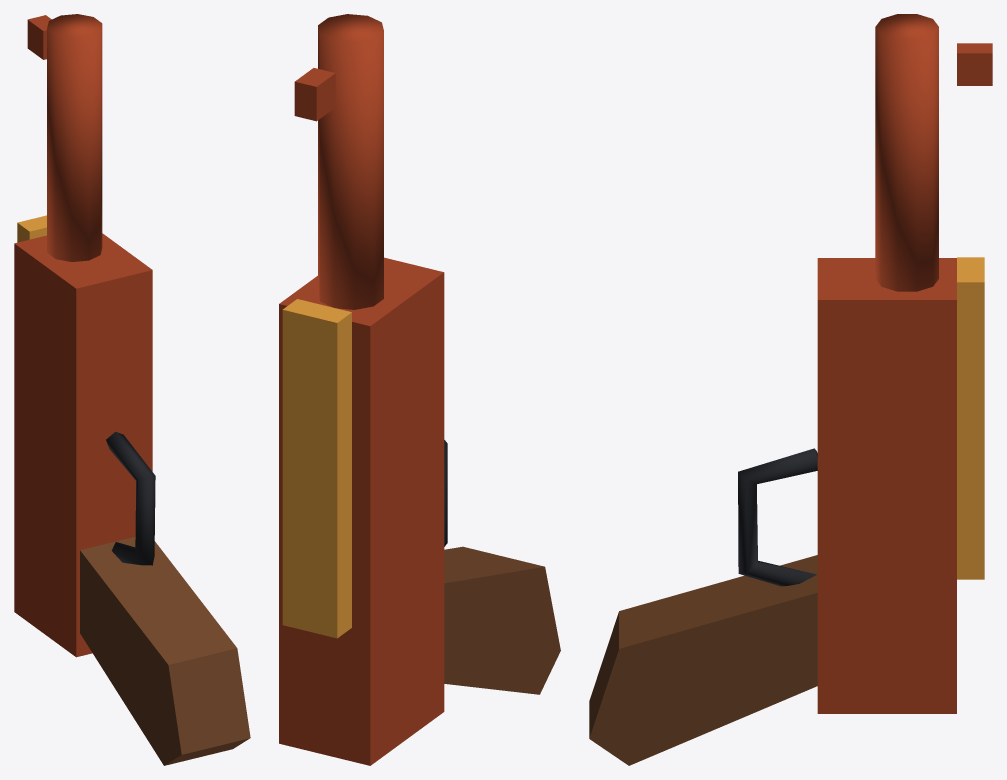
The model's file is phoenix_blaster.glb.
The picture shows the model from 3 angles, left to right: view 1: azimuth 30°, elevation 25°; view 2: azimuth 150°, elevation 25°; view 3: azimuth 270°, elevation 25°; orthographic projection. The views are drawn at different scales.
Visible parts, largest first — view 1: phoenix_blaster_v0; view 2: phoenix_blaster_v0; view 3: phoenix_blaster_v0.
Part boxes in pixels (x1,y1,x2,y2): phoenix_blaster_v0: (14, 14, 250, 765); phoenix_blaster_v0: (279, 14, 560, 765); phoenix_blaster_v0: (589, 14, 992, 765).
Size of the model in its own units: 0.05 by 0.4 by 0.203.
